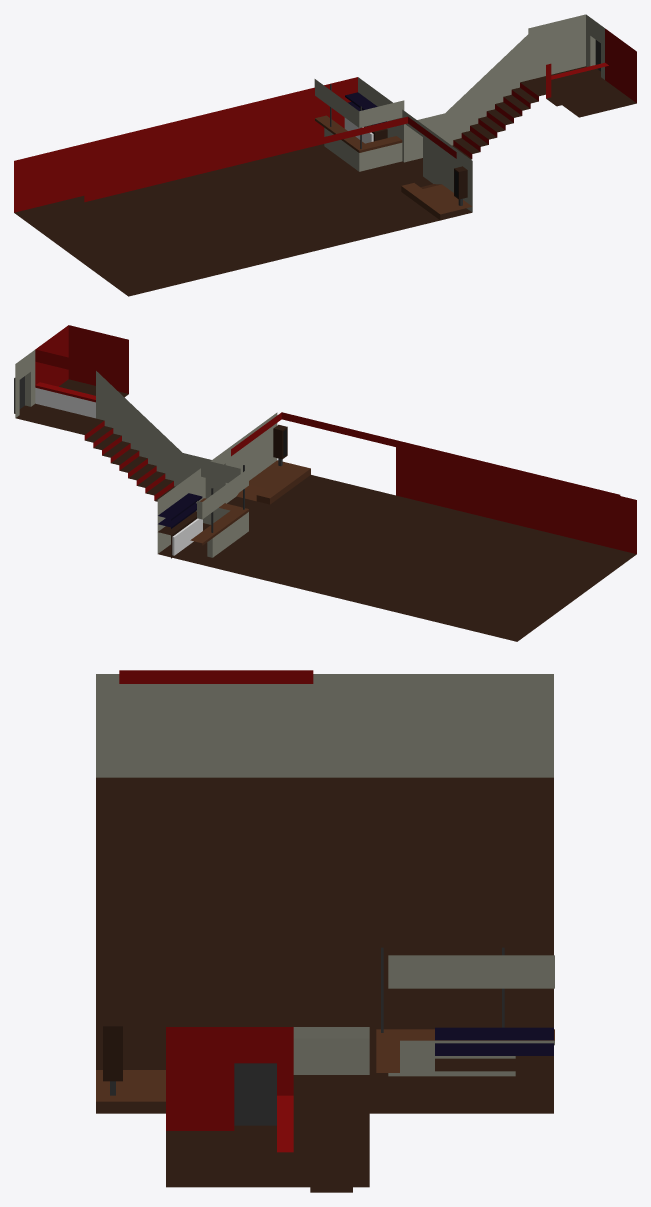
The model's file is bar.glb.
The picture shows the model from 3 angles, top to bottom: view 1: azimuth 30°, elevation 25°; view 2: azimuth 150°, elevation 25°; view 3: azimuth 270°, elevation 25°; orthographic projection. The views are drawn at different scales.
Visible parts, largest first — view 1: bar; view 2: bar; view 3: bar.
Part boxes in pixels (x1,y1,x2,y2): bar: [14, 14, 636, 296]; bar: [14, 325, 636, 641]; bar: [96, 670, 554, 1192].
Bounding box in the file's own units: 32.16 × 6.09 × 12.03.
